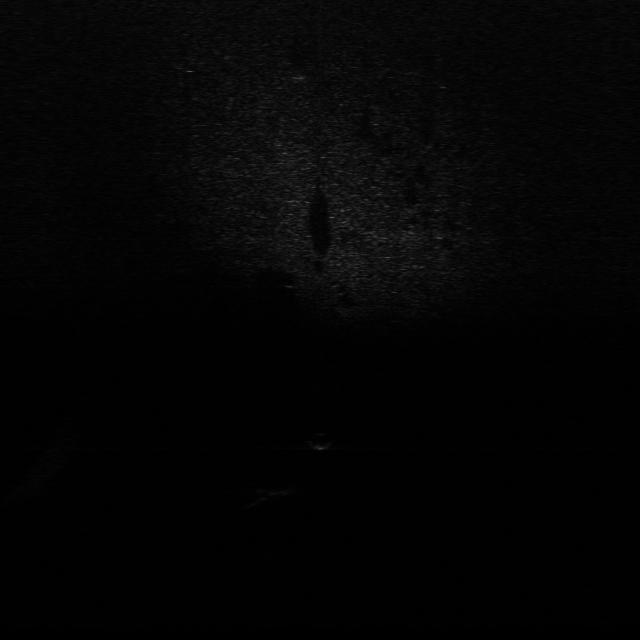ball: (306, 431, 336, 452)
square cage: (243, 483, 299, 501)
